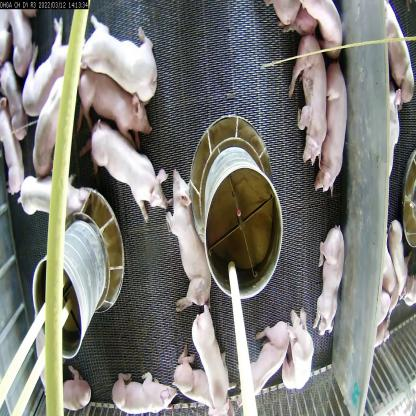Pig: (163, 172, 227, 316), (78, 15, 166, 106), (91, 124, 170, 219), (285, 27, 335, 171), (81, 59, 154, 148), (17, 12, 81, 107), (190, 291, 236, 416), (310, 59, 350, 198), (238, 307, 293, 407), (313, 218, 353, 340), (29, 73, 72, 186), (174, 347, 235, 415), (293, 0, 353, 58), (282, 290, 315, 394), (384, 211, 416, 316), (114, 372, 186, 415), (46, 362, 96, 415), (18, 174, 86, 212), (0, 99, 26, 198)
